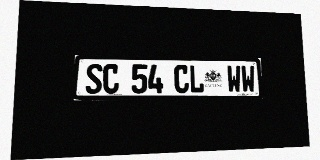4: (148, 64, 163, 93)
5: (132, 64, 147, 94)
C: (103, 64, 119, 94), (174, 65, 189, 93)
L: (189, 65, 204, 93)
S: (85, 64, 102, 94)
W: (227, 65, 241, 93), (241, 65, 255, 93)
